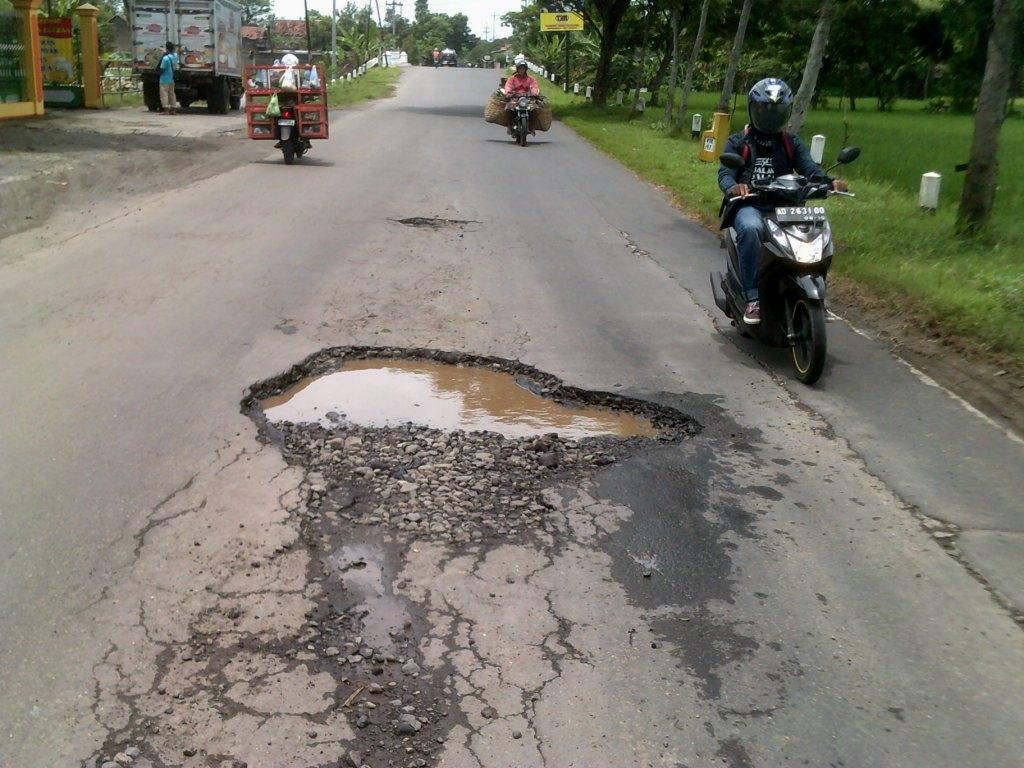Pothole: (156, 321, 781, 498), (383, 188, 490, 263)
